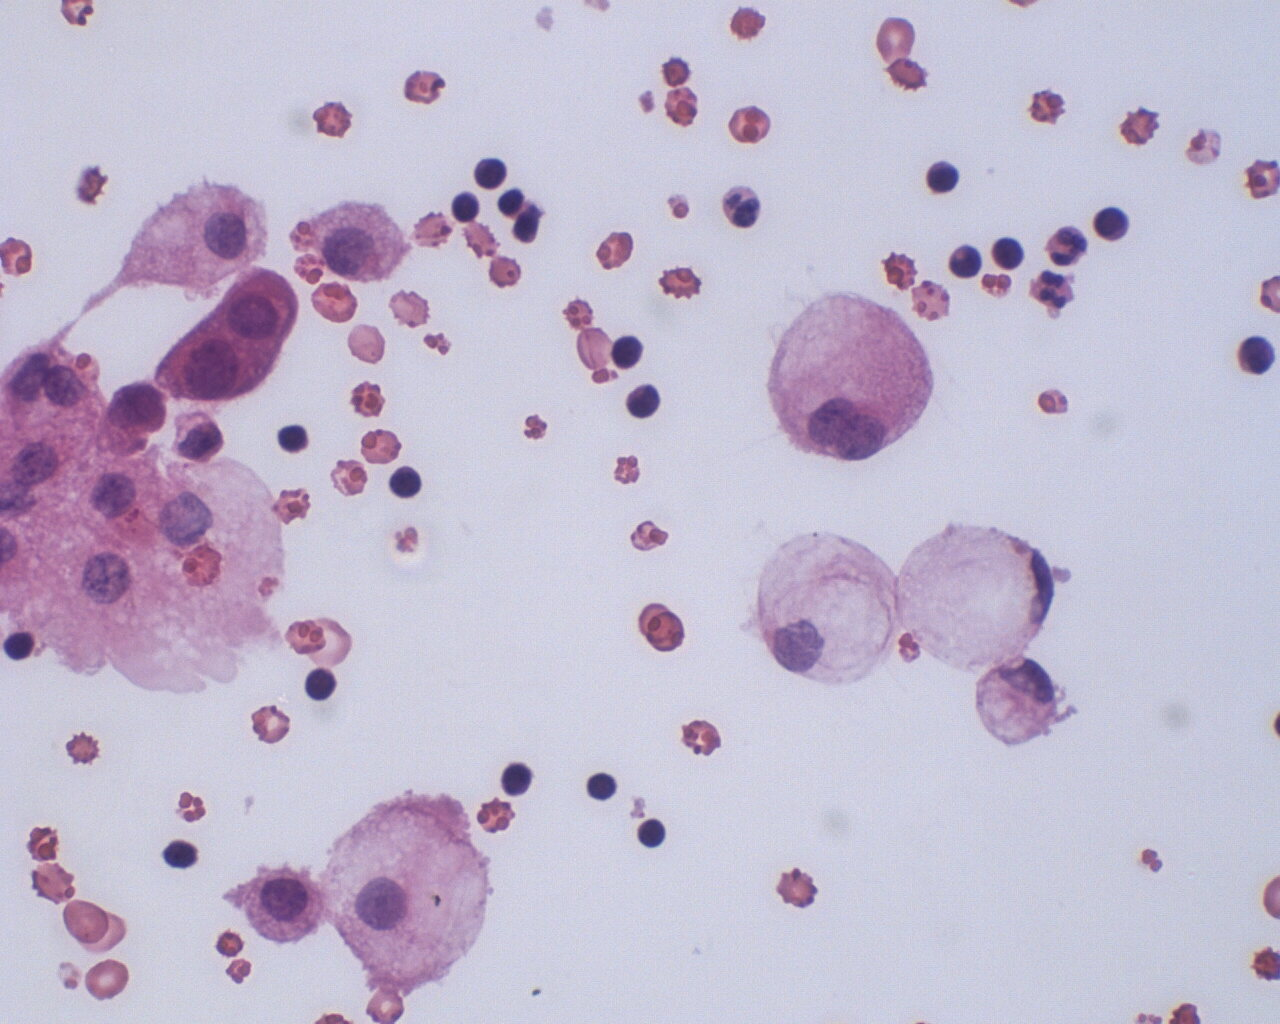ab: (156, 326, 253, 400), (213, 269, 304, 339), (100, 380, 170, 441)
normal: (315, 791, 490, 988), (765, 287, 937, 466), (753, 523, 907, 685), (895, 517, 1056, 670), (115, 176, 266, 294), (971, 655, 1067, 748), (236, 861, 326, 949), (716, 180, 772, 235), (1024, 263, 1080, 318), (1039, 222, 1091, 270), (466, 149, 512, 195), (923, 155, 965, 202), (621, 377, 664, 423), (631, 811, 677, 852), (388, 458, 425, 507), (301, 661, 343, 705), (497, 758, 539, 800), (581, 769, 624, 807), (271, 420, 313, 457), (611, 331, 646, 373)
